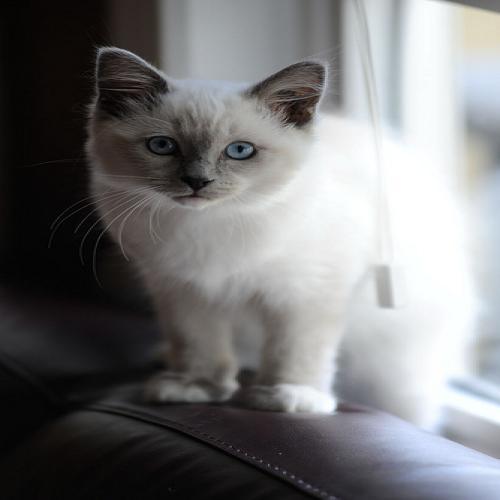ragdoll: (76, 39, 345, 227)
